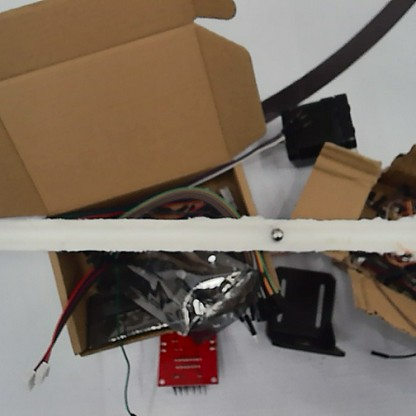ironball: (268, 225, 284, 242)
